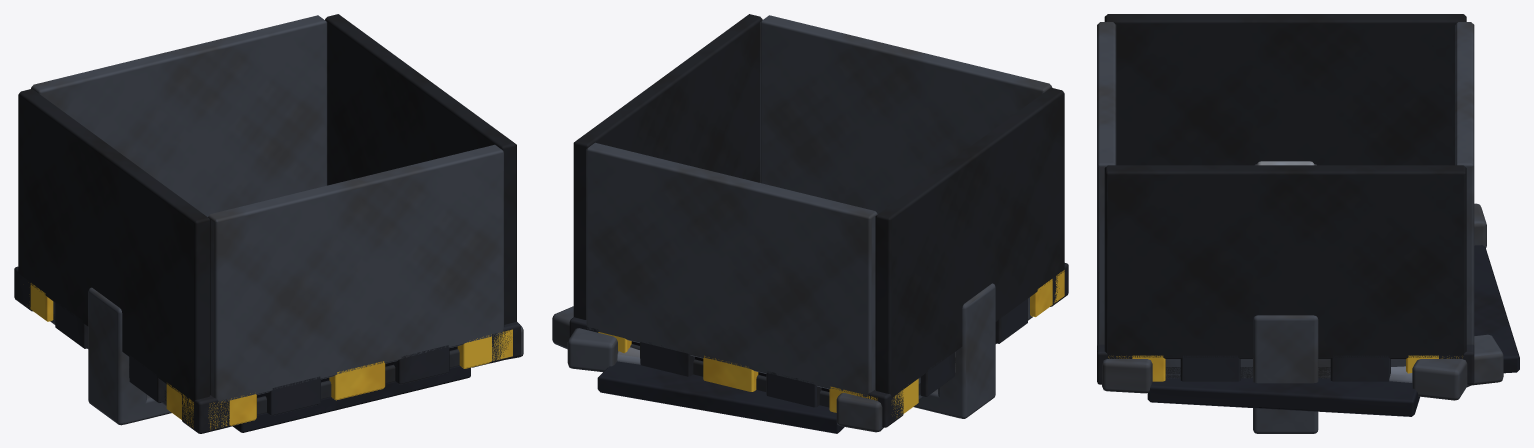
File: tiles.glb
3 views of the same model, side by side, from view 1: azimuth 30°, elevation 25°; view 2: azimuth 150°, elevation 25°; view 3: azimuth 270°, elevation 25° (orthographic). The views are drawn at different scales.
Parts seen in each view (by area): view 1: shaft_wall_y, shaft_wall_y.001, shaft_wall_x, shaft_wall_x.001, wall_post, belt_bed, curb_y.002, curb_y.003, curb_y.001, curb_corner, curb_y.004, curb_x.001 (+8 smaller); view 2: shaft_wall_y.001, shaft_wall_y, shaft_wall_x, shaft_wall_x.001, curve_bed, wall_post, curve_rail, curve_rail.003, curb_y.006, curb_y.007, curb_y.008, curb_x.003 (+7 smaller); view 3: shaft_wall_x.001, shaft_wall_x, curve_bed.005, wall_post.001, shaft_wall_y.001, shaft_wall_y, curve_bed, curve_rail.002, curve_rail.008, curb_x.006, curb_x.008, curve_rail (+5 smaller).
Boxes of the visible parts, x1,y1,x2,y2 form: shaft_wall_y: [208, 144, 504, 402]; shaft_wall_y.001: [31, 15, 327, 216]; shaft_wall_x: [18, 89, 210, 402]; shaft_wall_x.001: [325, 14, 516, 324]; wall_post: [88, 287, 146, 425]; belt_bed: [233, 365, 470, 432]; curb_y.002: [329, 361, 385, 400]; curb_y.003: [393, 345, 449, 384]; curb_y.001: [265, 376, 320, 415]; curb_corner: [182, 394, 230, 433]; curb_y.004: [457, 329, 512, 368]; curb_x.001: [129, 355, 164, 403]; shaft_wall_y.001: [586, 142, 877, 397]; shaft_wall_y: [760, 15, 1052, 213]; shaft_wall_x: [875, 87, 1064, 397]; shaft_wall_x.001: [573, 14, 762, 319]; curve_bed: [597, 361, 844, 433]; wall_post: [938, 283, 995, 418]; curve_rail: [567, 328, 617, 371]; curve_rail.003: [836, 393, 883, 432]; curb_y.006: [766, 371, 821, 407]; curb_y.007: [703, 355, 758, 391]; curb_y.008: [640, 342, 694, 376]; curb_x.003: [920, 352, 954, 397]; shaft_wall_x.001: [1104, 165, 1466, 359]; shaft_wall_x: [1104, 14, 1466, 165]; curve_bed.005: [1147, 378, 1419, 416]; wall_post.001: [1253, 315, 1318, 433]; shaft_wall_y.001: [1455, 22, 1474, 345]; shaft_wall_y: [1097, 22, 1116, 345]; curve_bed: [1474, 245, 1519, 373]; curve_rail.002: [1412, 359, 1467, 400]; curve_rail.008: [1102, 359, 1152, 393]; curb_x.006: [1180, 355, 1240, 381]; curb_x.008: [1330, 355, 1390, 381]; curve_rail: [1471, 334, 1503, 385].
Size of the model in its own units: 1.11 by 0.75 by 1.1.
Materials: 3 (1 with a texture image).
